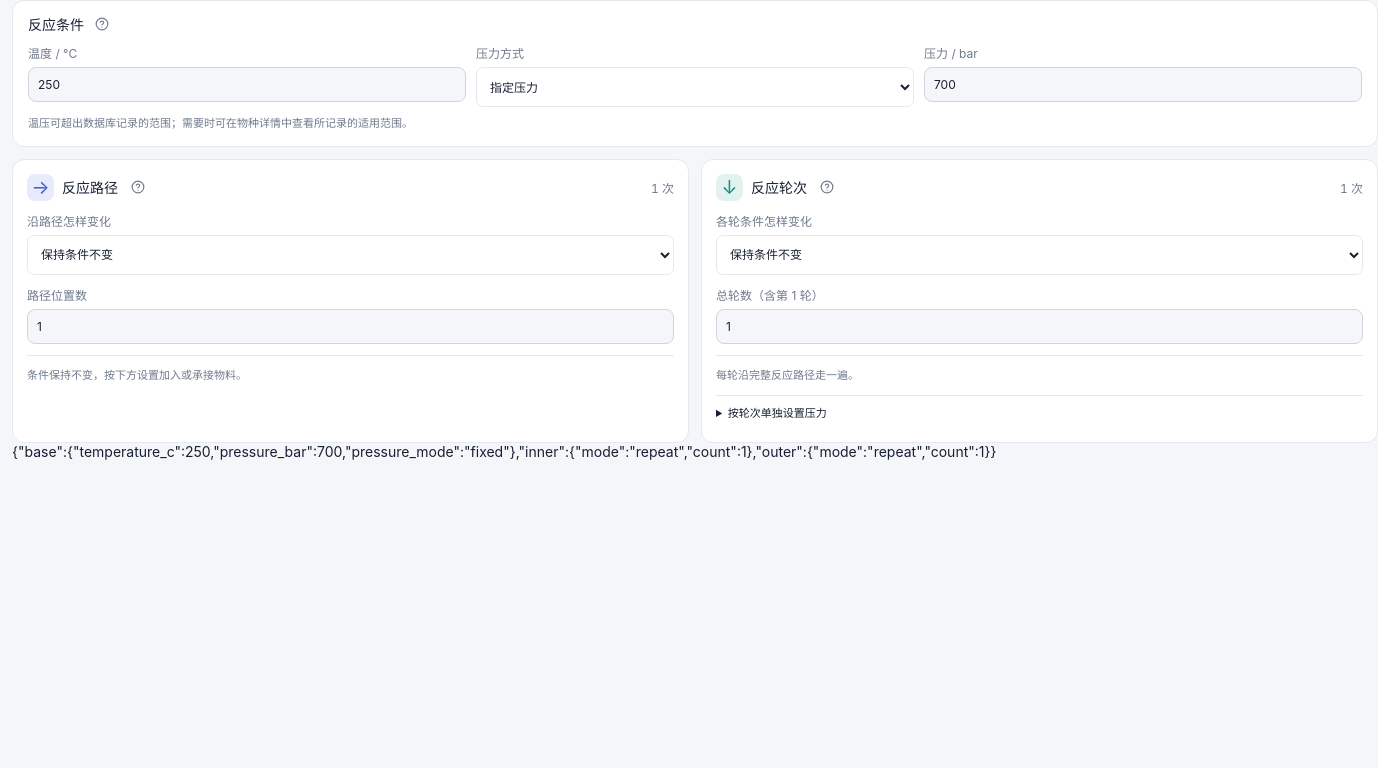
Test: can change modes while an earlier range is unfinished
Select "逐步增加或减少" in the dropdown named "反应路径方式": (350, 255) top-left (27, 235), bottom-right (674, 275)
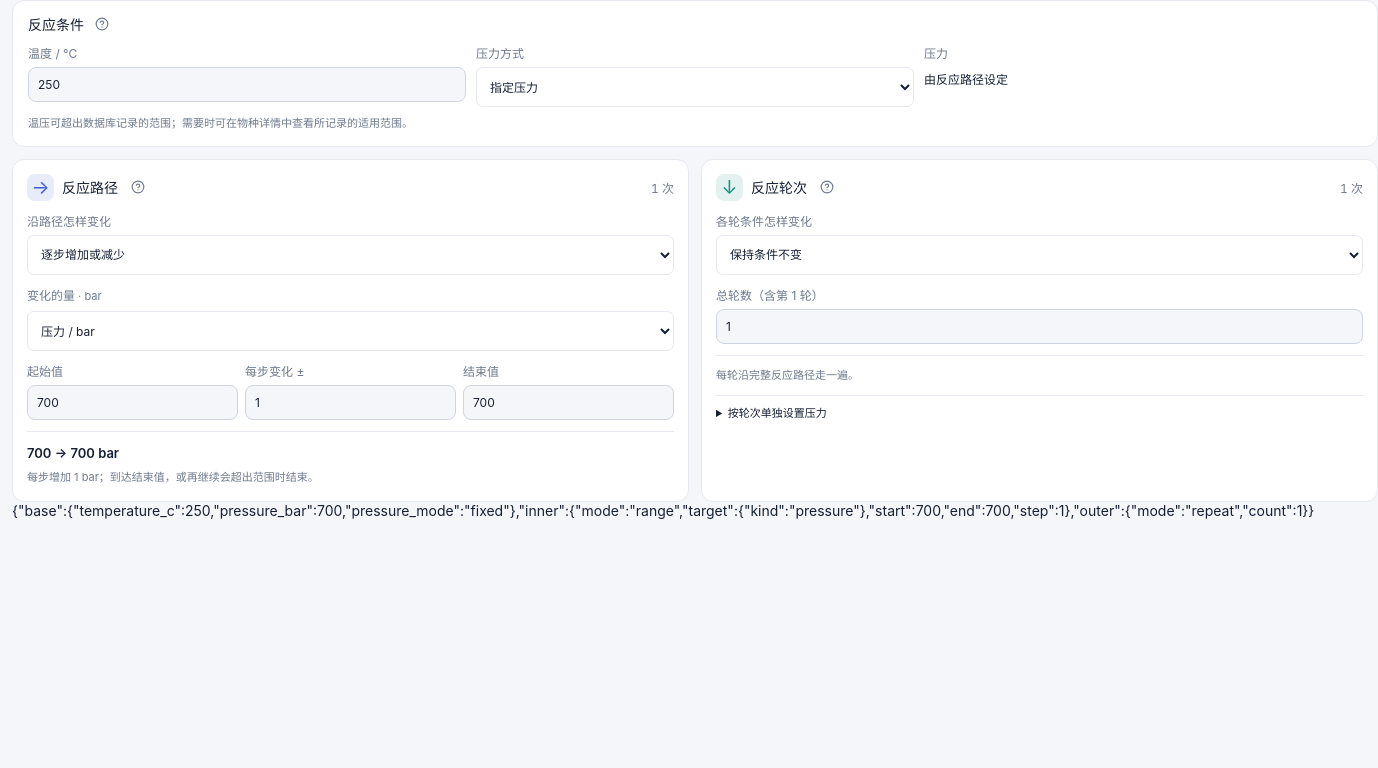
Clear the number field named "反应路径步长": (350, 403) top-left (245, 385), bottom-right (456, 420)
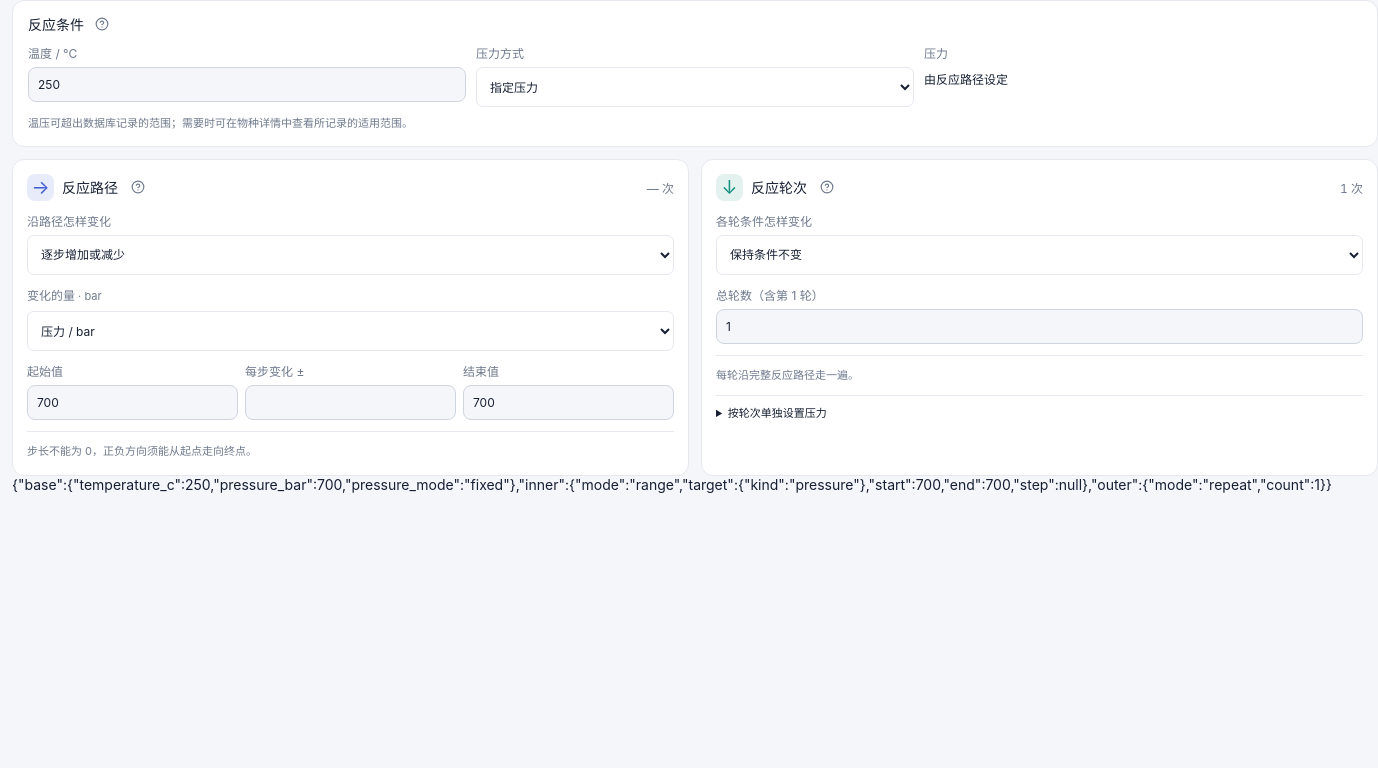
Select "保持条件不变" in the dropdown named "反应路径方式": (350, 255) top-left (27, 235), bottom-right (674, 275)
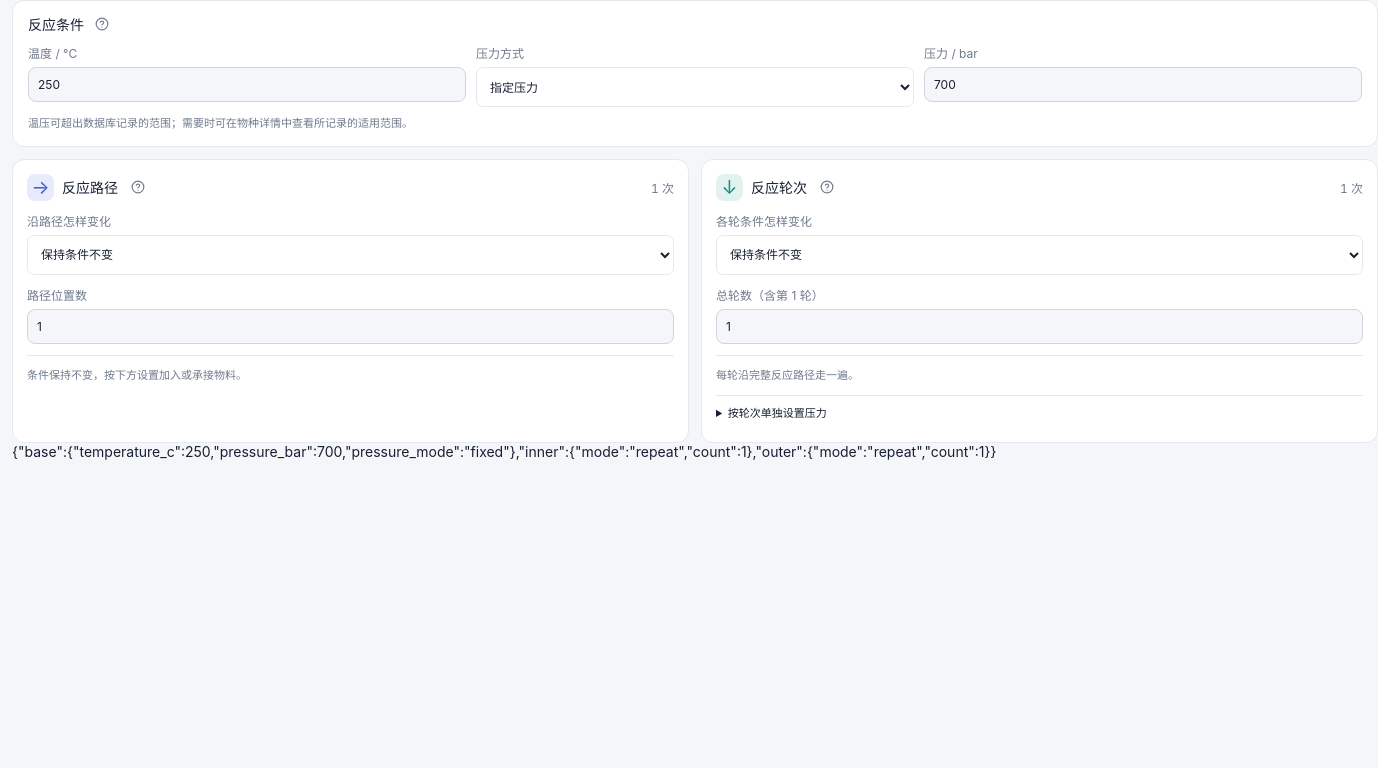
Select "分别指定条件" in the dropdown named "反应路径方式": (350, 255) top-left (27, 235), bottom-right (674, 275)
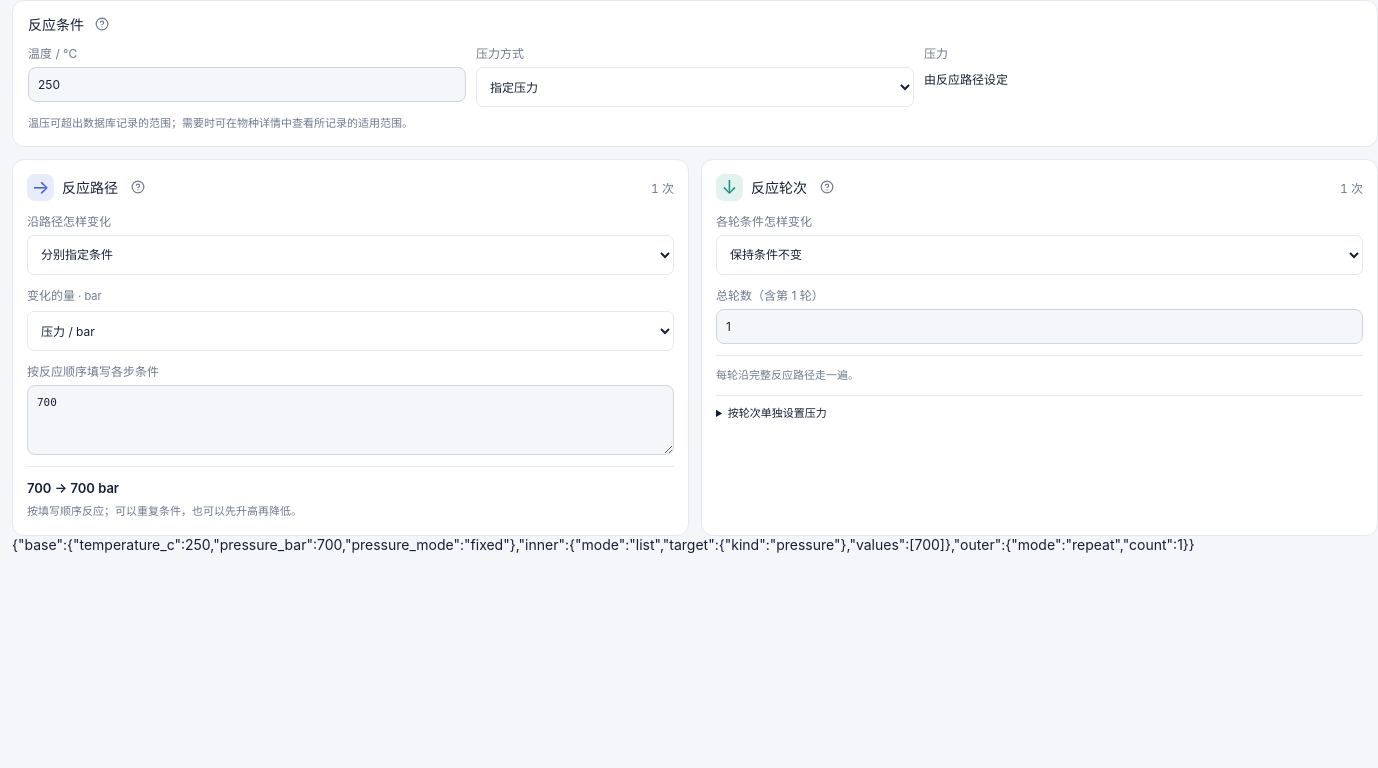
Expected: the text box named "反应路径数列" is shown, top-left (27, 385), bottom-right (674, 455)
